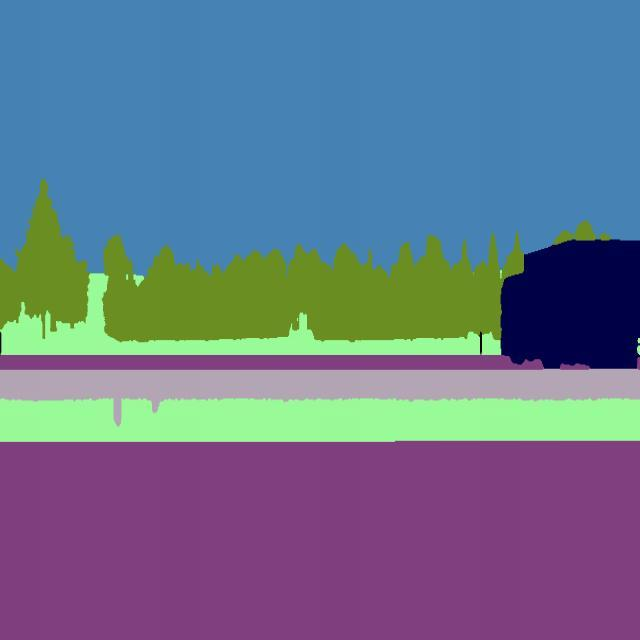safe: (497, 232, 640, 372)
